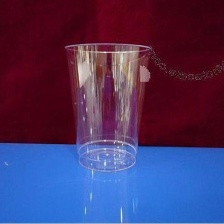glass: (51, 35, 158, 177)
